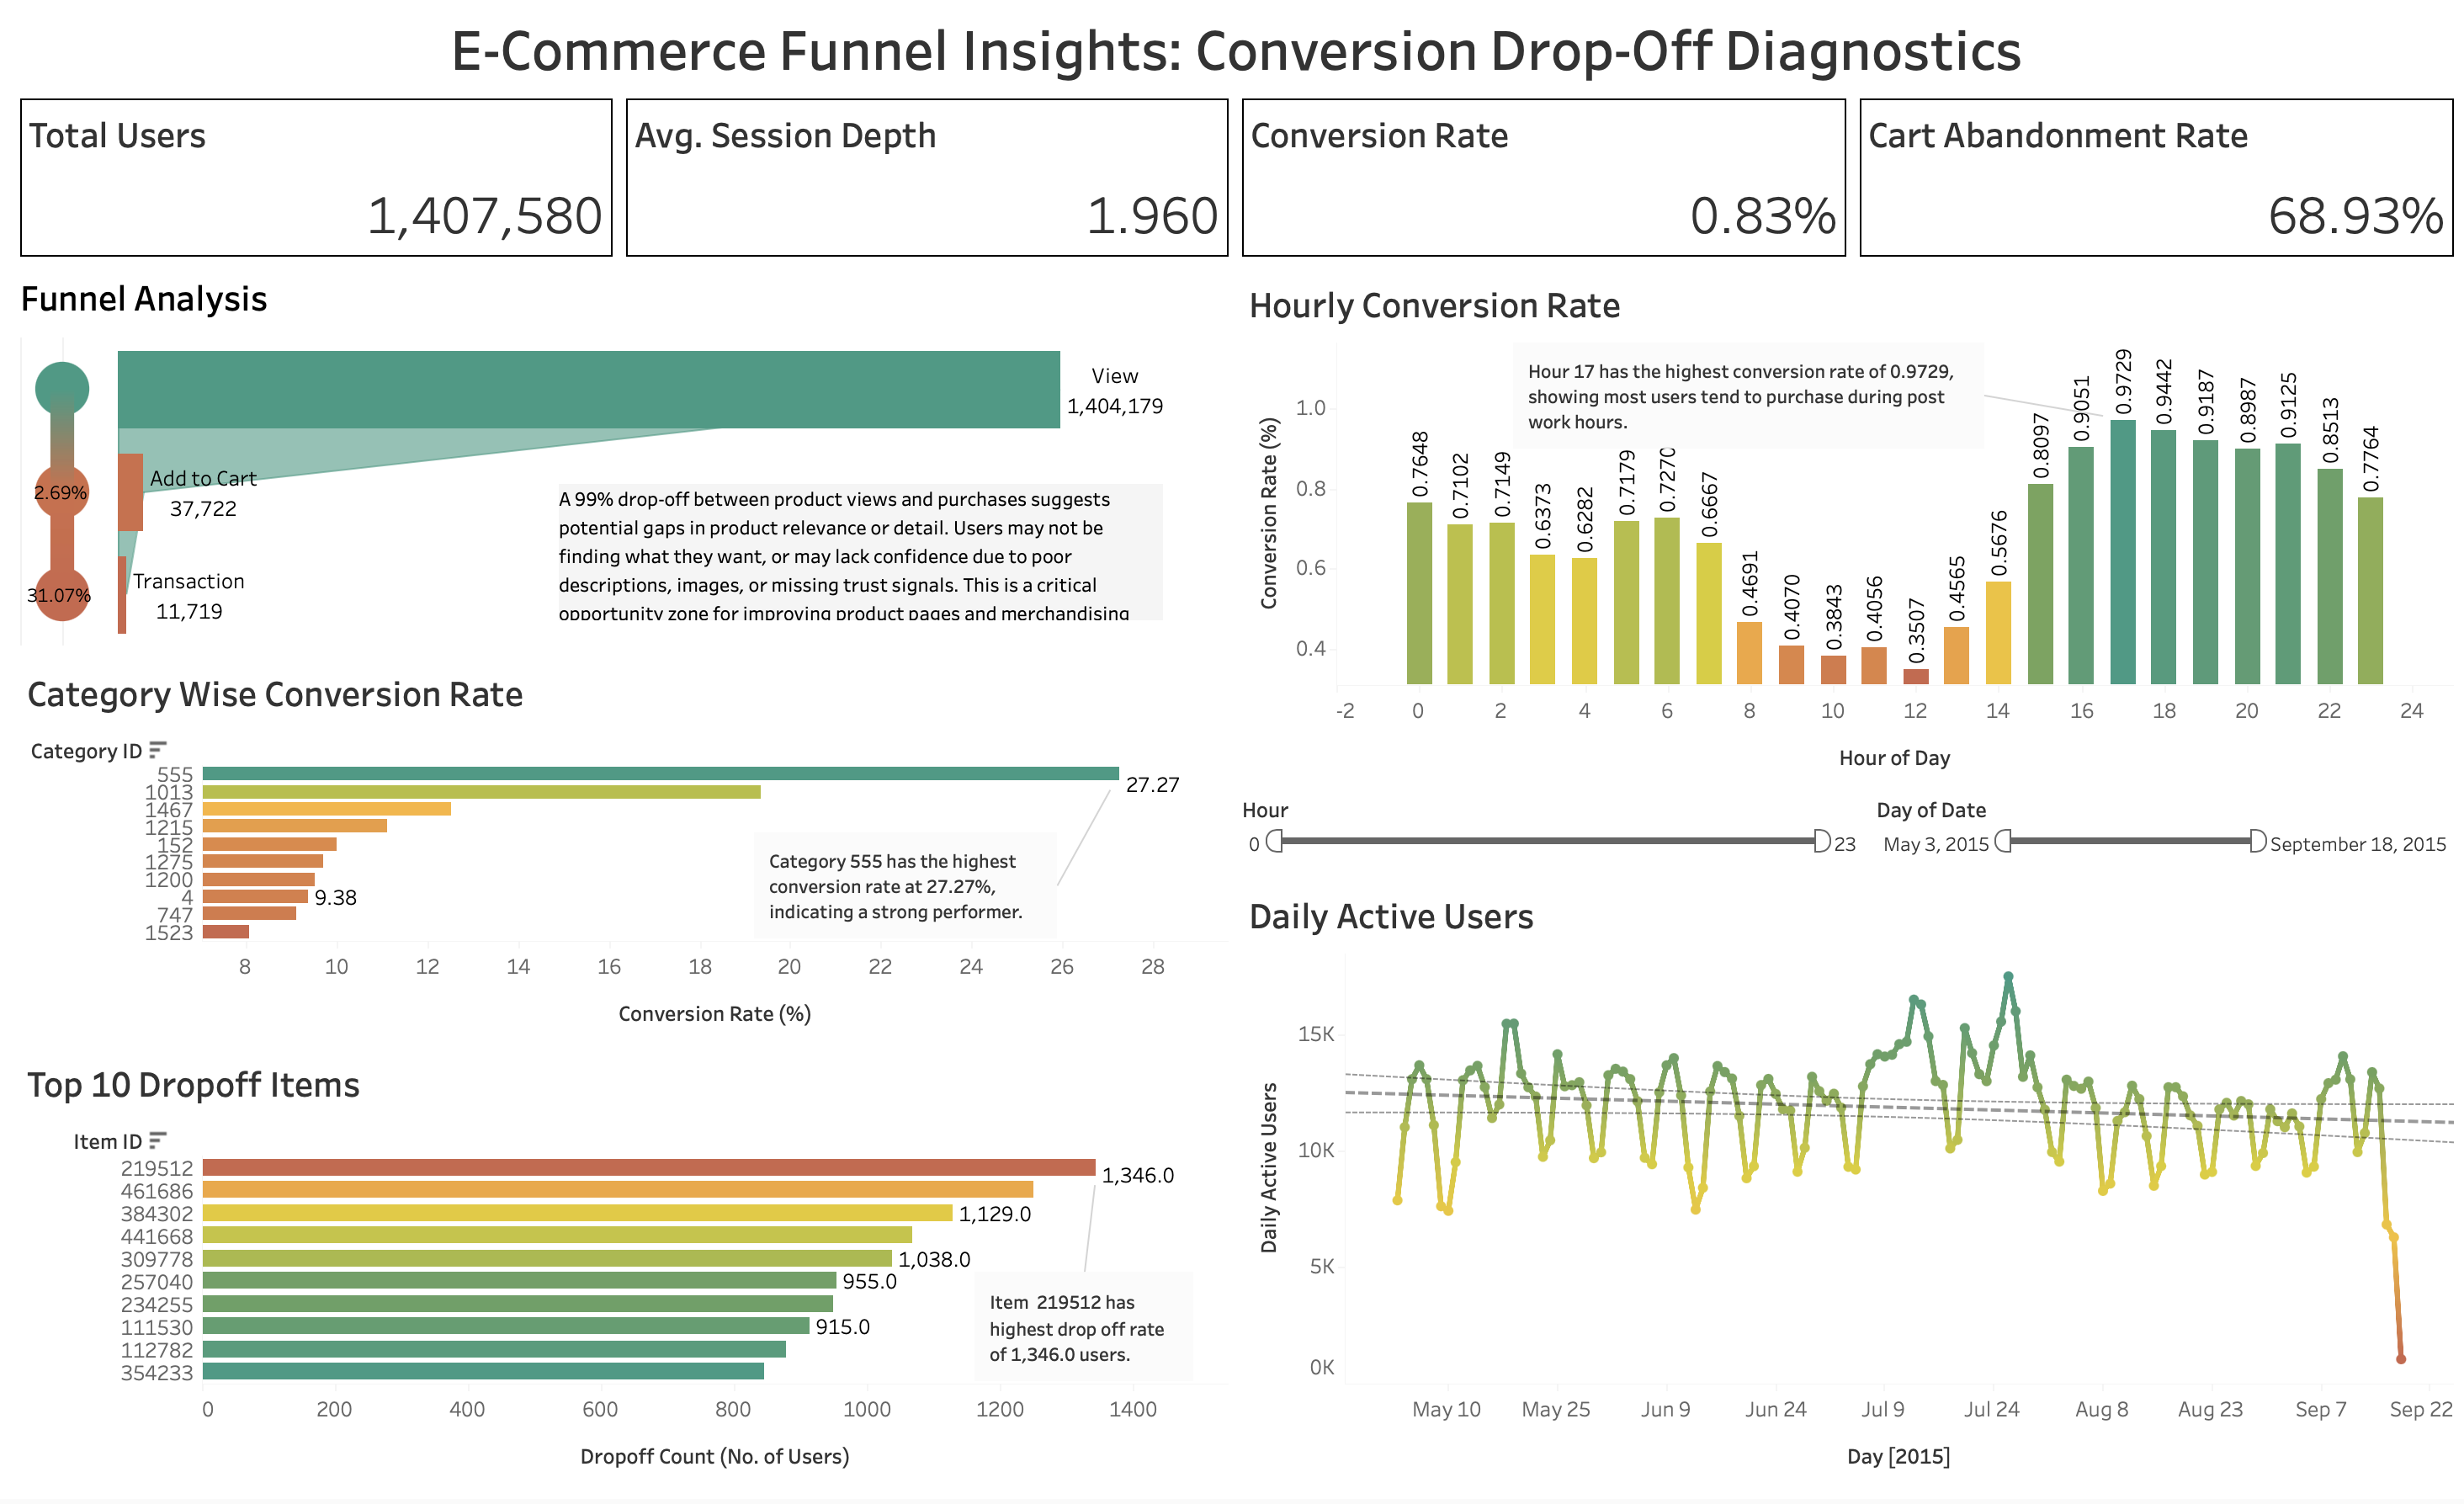

The page's visual inventory and layout, read from the dashboard file:
{"tool":"tableau","page":{"name":"E-Commerce Funnel Insights: Conversion Drop-Off Diagnostics","canvas":[1000,1000],"units":"permille","ordinal":0},"visuals":[{"type":"title","box":[5.3,8.4,989.5,54.9]},{"type":"worksheet","title":"Total Users","mark":"Automatic","box":[5.3,63.3,244.8,114.6]},{"type":"worksheet","title":"Avg. Session Depth","mark":"Automatic","box":[250.1,63.3,249.6,114.6]},{"type":"worksheet","title":"Conversion Rate","mark":"Automatic","box":[499.7,63.3,249.6,114.6]},{"type":"worksheet","title":"Cart Abandonment Rate","mark":"Automatic","box":[749.2,63.3,245.5,114.6]},{"type":"text","box":[5.3,177.8,494.4,44.5]},{"type":"worksheet","title":"Hourly Conversion Rate","mark":"Bar","rows":["visitorid"],"cols":["hour"],"box":[499.7,177.8,495.1,348.2]},{"type":"worksheet","title":"Funnel Analysis Pt.2","mark":"Circle","rows":["Stage"],"cols":["Calculation_243194417844473889","Calculation_243194417845354532"],"box":[5.3,222.4,39.7,214.8]},{"type":"worksheet","title":"Funnel Analysis","mark":"Area","rows":["Stage"],"cols":["Users","Users"],"box":[45,222.4,454.7,214.8]},{"type":"text","box":[225.9,326.6,244,91.2]},{"type":"worksheet","title":"Category Wise Conversion Rate","mark":"Bar","rows":["categoryid"],"cols":["conversion_rate"],"box":[5.3,437.2,494.4,259.4]},{"type":"filter","title":"Hourly Conversion Rate","param":"[federated.14j7vdk19l5ydi1afjavu0hgj633].[none:hour:qk]","box":[499.7,526.1,256,58.6]},{"type":"filter","title":"Daily Active Users","param":"[federated.00gko5i0dmwi3k1arxq1m06y6j4q].[tdy:date:qk]","box":[755.6,526.1,239.1,58.6]},{"type":"worksheet","title":"Daily Active Users","mark":"Line","rows":["visitorid"],"cols":["date"],"box":[499.7,584.6,495.1,406.9]},{"type":"worksheet","title":"Top 10 Dropoff Items","mark":"Automatic","rows":["itemid"],"cols":["visitorid"],"box":[5.3,696.5,494.4,295]}]}

Visuals, with their boxes on the dashboard's canvas, which has no fixed pixel size, in thousandths of its width and height (x1, y1, x2, y2). These are canvas units, not pixel positions in the 2464x1504 screenshot, which may show the page scaled, cropped or inside an application window:
title: 5,8,995,63
"Total Users" worksheet: 5,63,250,178
"Avg. Session Depth" worksheet: 250,63,500,178
"Conversion Rate" worksheet: 500,63,749,178
"Cart Abandonment Rate" worksheet: 749,63,995,178
text: 5,178,500,222
"Hourly Conversion Rate" worksheet (Bar marks): 500,178,995,526
"Funnel Analysis Pt.2" worksheet (Circle marks): 5,222,45,437
"Funnel Analysis" worksheet (Area marks): 45,222,500,437
text: 226,327,470,418
"Category Wise Conversion Rate" worksheet (Bar marks): 5,437,500,697
"Hourly Conversion Rate" filter: 500,526,756,585
"Daily Active Users" filter: 756,526,995,585
"Daily Active Users" worksheet (Line marks): 500,585,995,992
"Top 10 Dropoff Items" worksheet: 5,696,500,992
